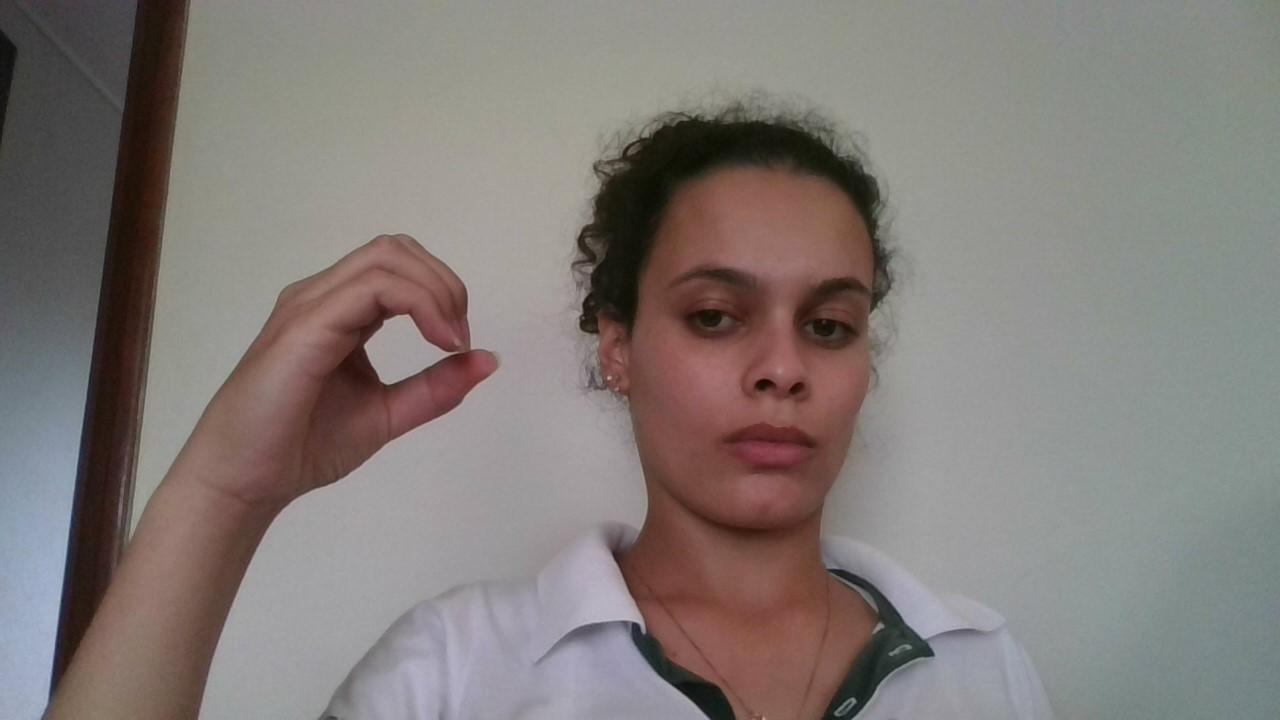O: (236, 230, 516, 490)
